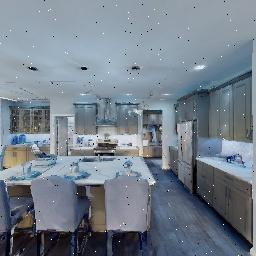chair: (26, 170, 97, 256), (97, 173, 162, 256), (0, 173, 36, 256)
door-frame: (48, 105, 80, 162)
table: (0, 149, 161, 229)
